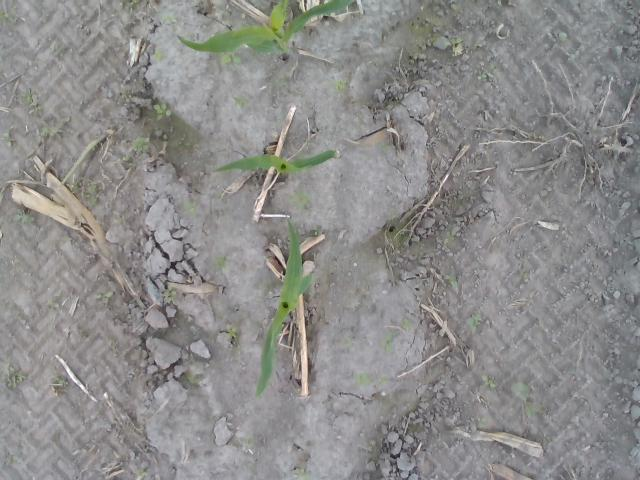Maize: (252, 216, 318, 400), (176, 0, 354, 55), (206, 146, 338, 178)
Weeds: (511, 382, 542, 418), (68, 174, 98, 206), (0, 362, 28, 390), (15, 88, 42, 112), (288, 190, 312, 217), (350, 370, 374, 391), (152, 102, 176, 122), (464, 312, 480, 338), (180, 197, 201, 216), (213, 255, 233, 274), (176, 138, 202, 152), (218, 50, 242, 65), (232, 93, 250, 113), (335, 78, 353, 96), (130, 136, 150, 152), (15, 209, 35, 225), (292, 467, 316, 480), (0, 8, 17, 26), (161, 286, 178, 304), (481, 374, 497, 393), (223, 324, 240, 341), (379, 334, 395, 352), (32, 128, 48, 146), (448, 271, 463, 289), (335, 336, 353, 350), (477, 68, 498, 80), (5, 454, 24, 466), (152, 48, 168, 62), (398, 319, 416, 331), (476, 415, 489, 431), (96, 290, 113, 302), (128, 0, 140, 16), (2, 127, 12, 146), (120, 88, 132, 103), (448, 36, 464, 46), (186, 376, 202, 386), (446, 230, 458, 243), (160, 15, 177, 24), (378, 374, 390, 386), (224, 11, 234, 25), (134, 468, 146, 478), (558, 31, 568, 42), (249, 0, 264, 7), (124, 154, 134, 162), (216, 192, 224, 200), (496, 0, 502, 8)
